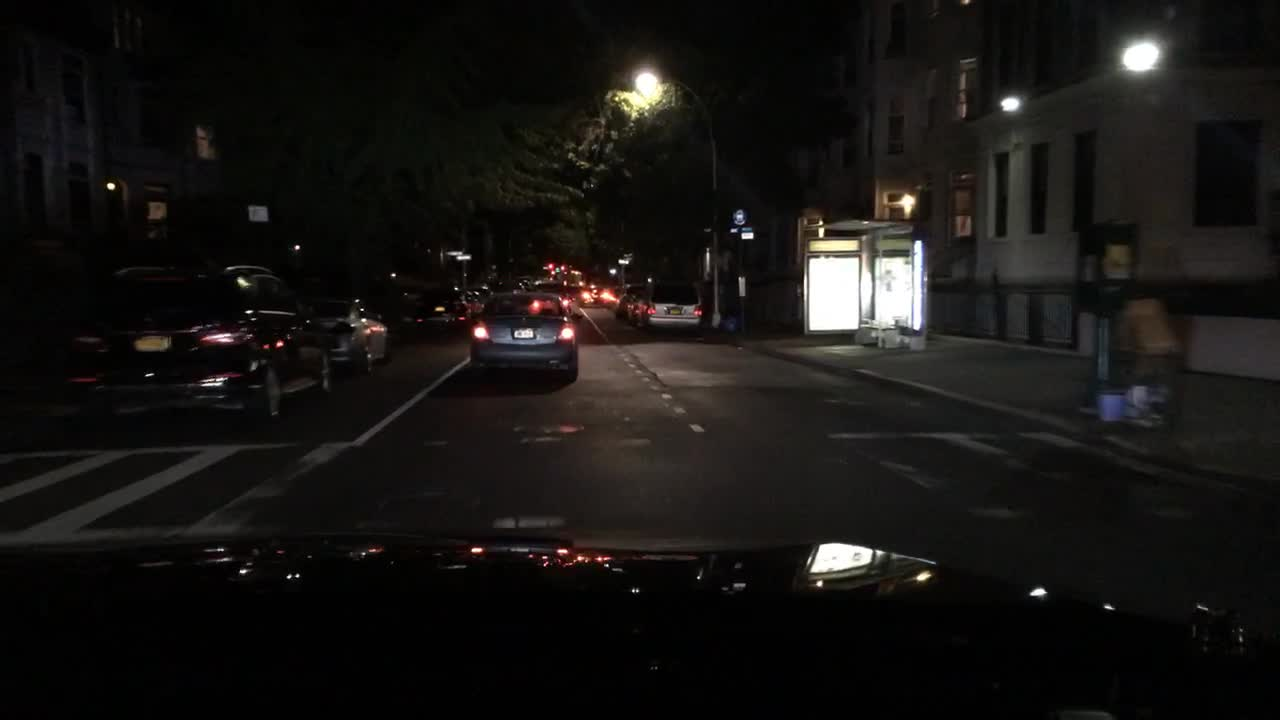car: (54, 261, 335, 433), (464, 290, 583, 393), (297, 295, 395, 376), (636, 278, 707, 332), (401, 287, 475, 335), (533, 283, 584, 322), (463, 283, 497, 316), (610, 281, 641, 313), (489, 273, 512, 293), (572, 289, 592, 309), (595, 286, 616, 301), (512, 275, 530, 290)
person: (1109, 281, 1184, 436)
traffic light: (558, 261, 569, 273), (546, 258, 555, 270)
traffic sign: (731, 207, 748, 227), (248, 203, 266, 221), (739, 227, 756, 243), (450, 250, 472, 260), (730, 224, 739, 236), (443, 249, 461, 255)
